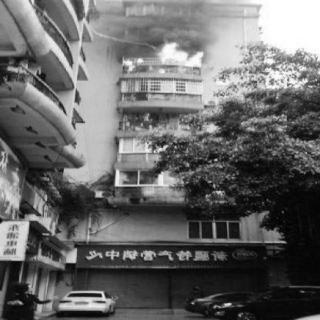Fire: (119, 34, 219, 77)
Smoke: (113, 13, 215, 39)
other: (2, 221, 32, 260), (110, 100, 206, 110), (119, 128, 187, 142), (113, 161, 163, 171)
